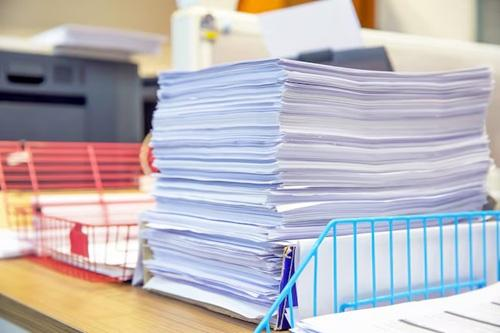plastic: (136, 43, 499, 333)
